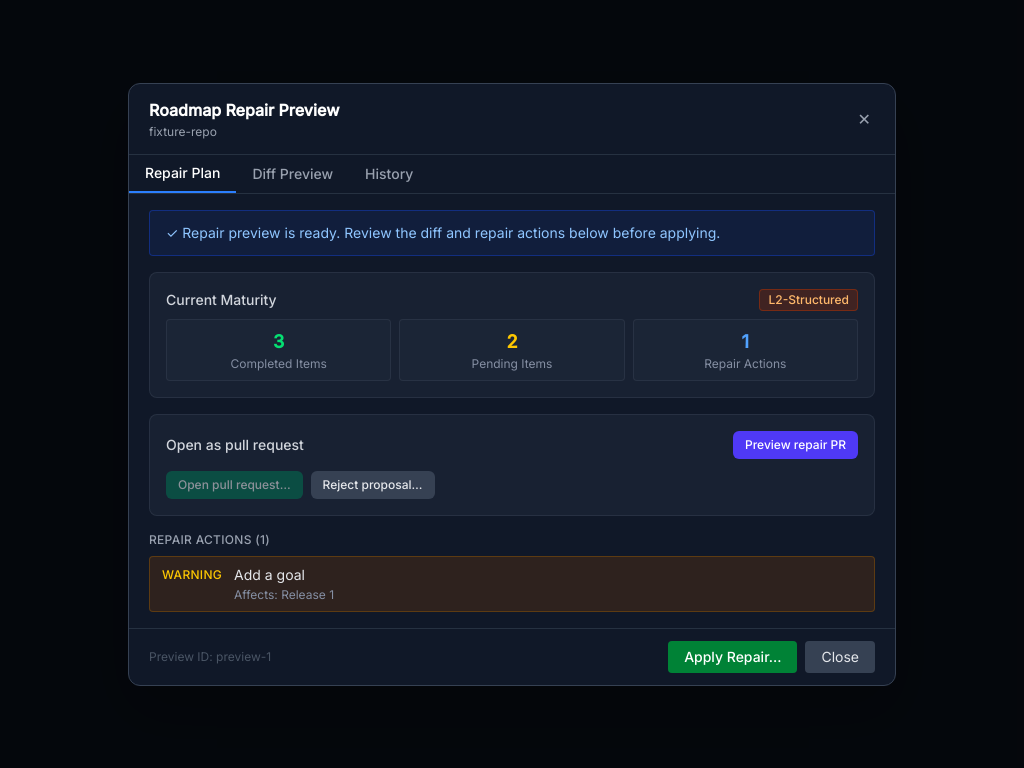
Test case: RoadmapRepairModal — the live PR and the recorded decision › shows the server refusal instead of a success when the live PR is refused
The image size is (1024, 768).
Check: the text "Repair preview is ready" is shown, box [166,224,720,240]
Click the button "Preview repair PR": [796, 444] box [733,430,858,458]
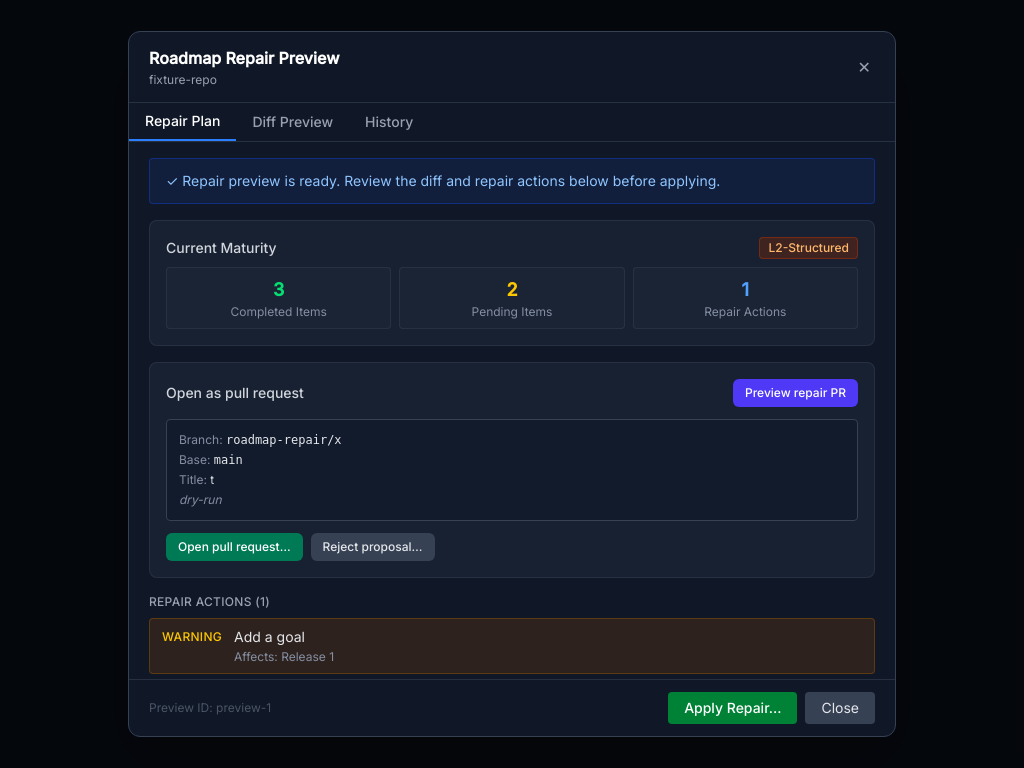
Check: the button with test id "repair-open-pr" is enabled
Click the button with test id "repair-open-pr": [234, 547] box [166,533,303,561]
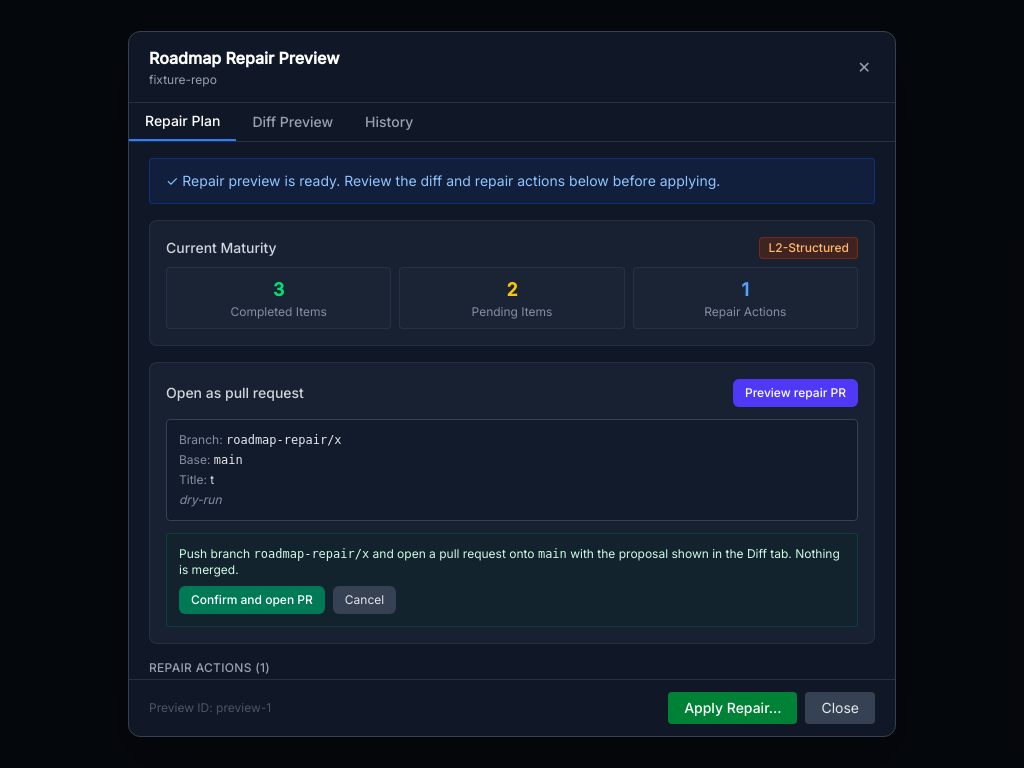
Click the button with test id "repair-open-pr-submit": [252, 600] box [179,586,325,614]
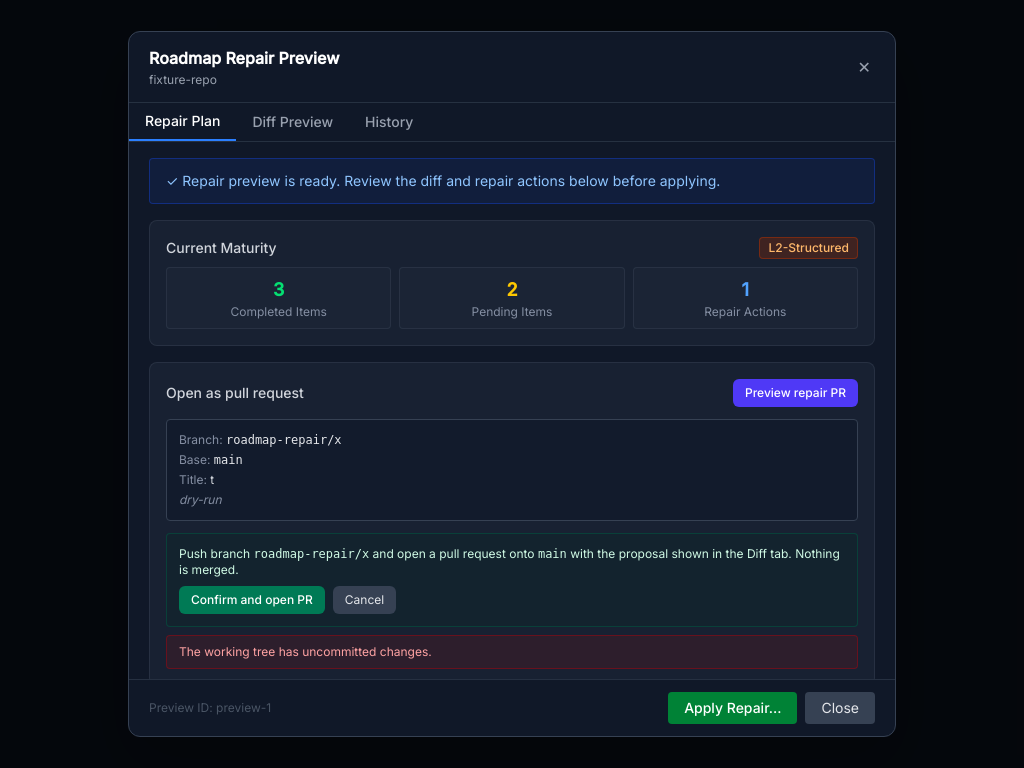
Check: the text with test id "repair-open-pr-error" shows "uncommitted changes", box [179,644,432,659]
